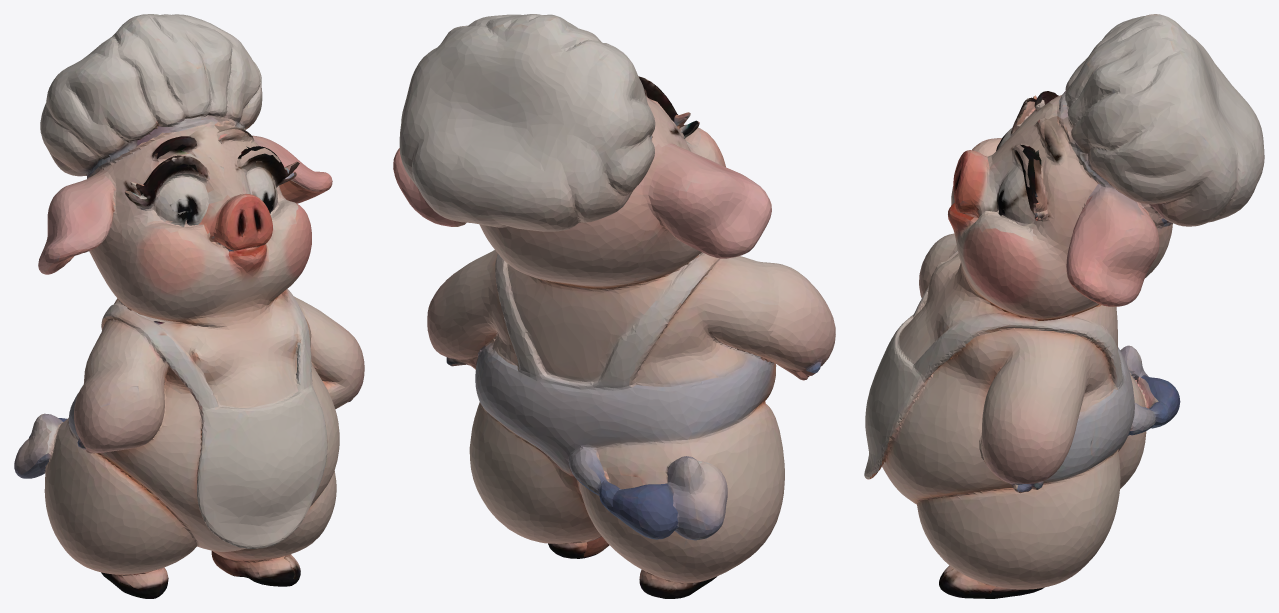
File: garak_alba2.glb
The picture shows the model from 3 angles, left to right: view 1: azimuth 30°, elevation 25°; view 2: azimuth 150°, elevation 25°; view 3: azimuth 270°, elevation 25°; orthographic projection. The views are drawn at different scales.
Visible parts, largest first — view 1: alba2.obj; view 2: alba2.obj; view 3: alba2.obj.
Part boxes in pixels (left/top/right/bottom): alba2.obj: left=14, top=14, right=364, bottom=598; alba2.obj: left=393, top=14, right=835, bottom=598; alba2.obj: left=864, top=14, right=1264, bottom=598.
Bounding box in the file's own units: 1.25 × 1.97 × 1.29.
Materials: 1 (1 with a texture image).
